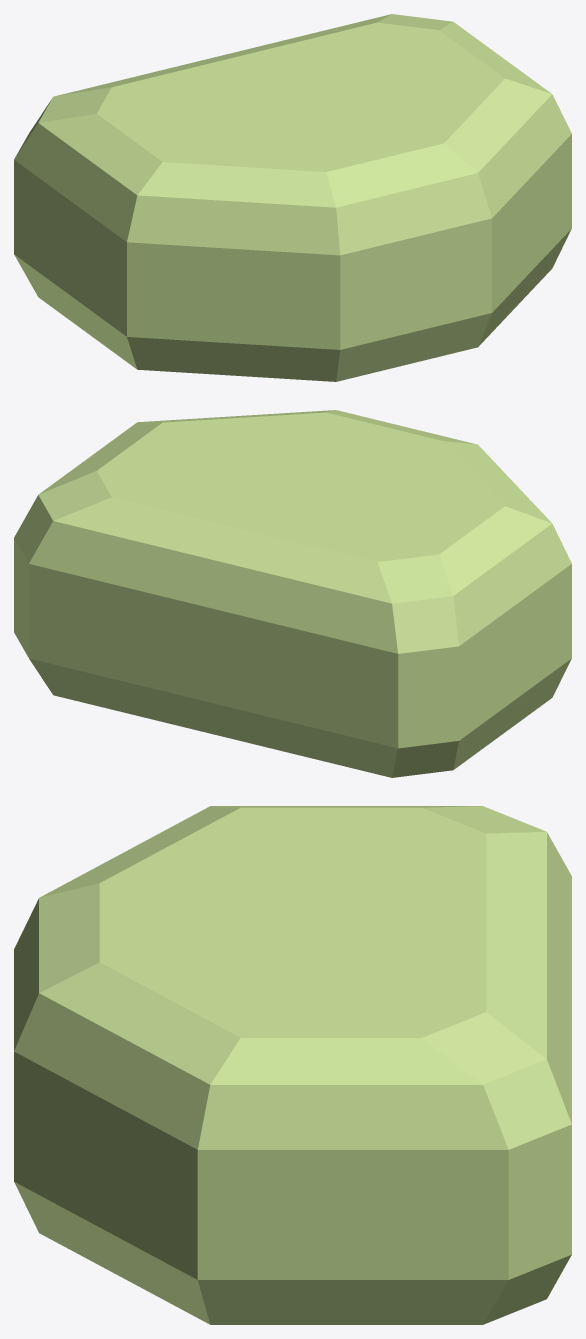
The model's file is RetainerCase.fbx.
3 views of the same model, one above another, from view 1: azimuth 30°, elevation 25°; view 2: azimuth 150°, elevation 25°; view 3: azimuth 270°, elevation 25° (orthographic). The views are drawn at different scales.
Parts seen in each view (by area): view 1: RetainerCase; view 2: RetainerCase; view 3: RetainerCase.
Boxes of the visible parts, x1,y1,x2,y2 form: RetainerCase: (14,14,571,381); RetainerCase: (14,410,571,777); RetainerCase: (14,806,571,1324).
Size of the model in its own units: 0.0395 by 0.0176 by 0.0311.
Materials: 1 (1 with a texture image).
